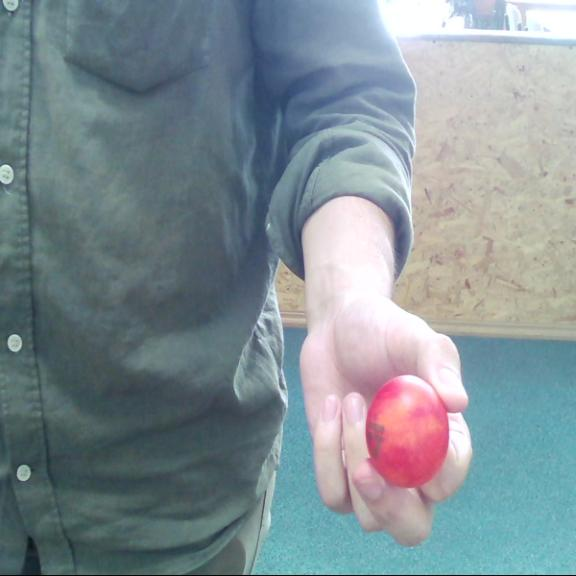ball: (363, 371, 456, 486)
